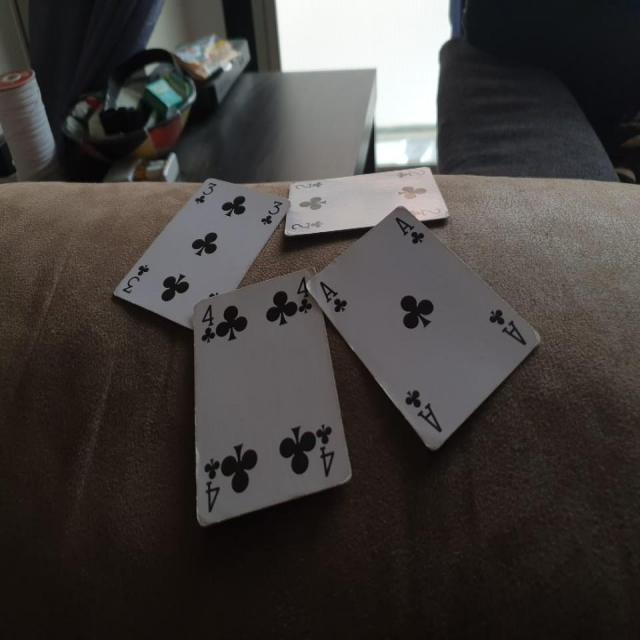2 Trefoils: (283, 163, 451, 236)
3 Trefoils: (112, 177, 291, 330)
4 Trefoils: (190, 263, 353, 530)
A Trefoils: (304, 205, 545, 450)
